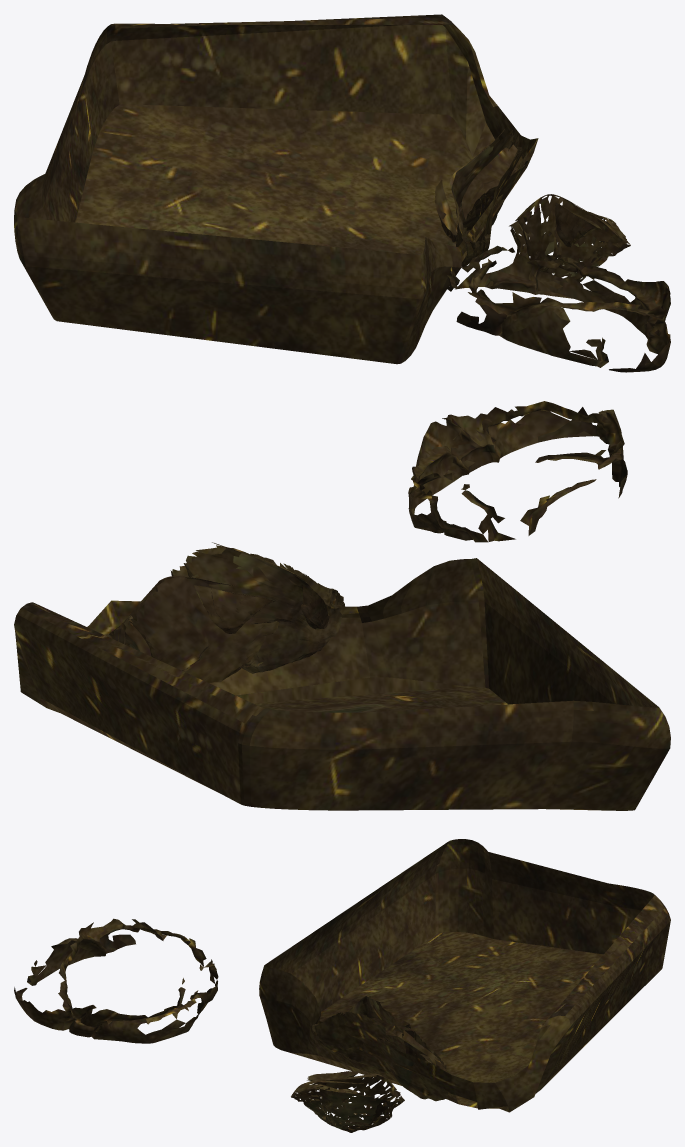
File: GrassTerrain_014_Mud_B_v3.glb
3 renders of one model, top to bottom at view 1: azimuth 30°, elevation 25°; view 2: azimuth 150°, elevation 25°; view 3: azimuth 270°, elevation 25°, orthographic. The views are drawn at different scales.
Parts seen in each view (by area): view 1: 立方体.014_Mud_B; view 2: 立方体.014_Mud_B; view 3: 立方体.014_Mud_B.
Part boxes in pixels (box(x1,y1,x2,y2)): 立方体.014_Mud_B: box(14, 14, 670, 372); 立方体.014_Mud_B: box(14, 401, 670, 810); 立方体.014_Mud_B: box(14, 839, 670, 1132).
Size of the model in its own units: 743 by 252 by 1026.
1 material, 1 textured.
